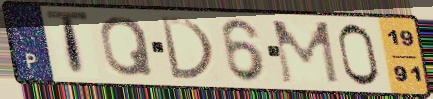0: (335, 22, 383, 88)
6: (218, 16, 269, 85)
D: (157, 14, 218, 83)
M: (269, 18, 342, 86)
Q: (98, 14, 157, 79)
T: (43, 9, 92, 81)
